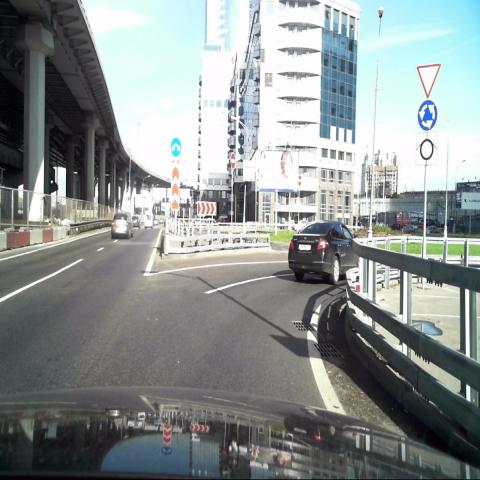4_3: (417, 98, 438, 132)
8_13_1: (418, 138, 436, 164)
